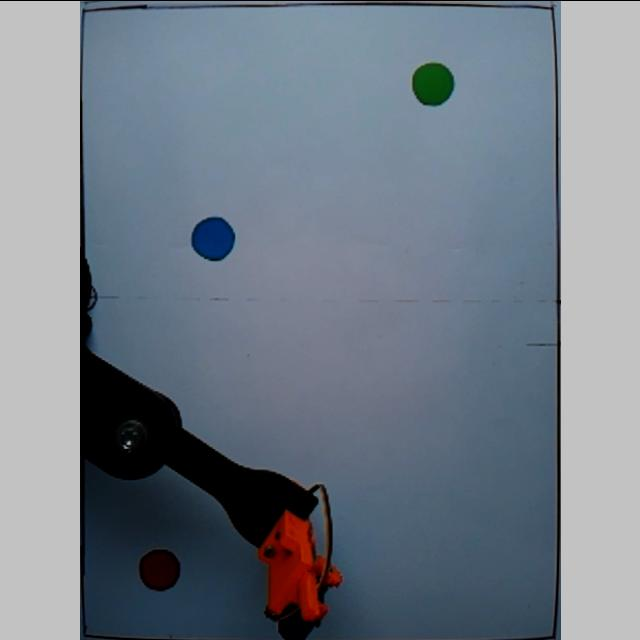blueCircle: (188, 213, 236, 260)
greenCircle: (411, 61, 454, 108)
redCircle: (136, 547, 182, 591)
